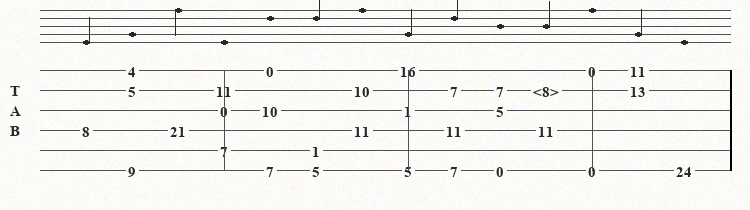0: (220, 103, 232, 117), (266, 63, 278, 77), (496, 163, 508, 177), (588, 63, 600, 77), (588, 163, 600, 177)
1: (312, 143, 324, 157), (404, 103, 416, 117)
10: (262, 103, 282, 117), (354, 83, 374, 97)
11: (216, 83, 236, 97), (354, 123, 374, 137), (446, 123, 466, 137), (538, 123, 558, 137), (630, 63, 650, 77)
13: (630, 83, 650, 97)
16: (400, 63, 420, 77)
21: (170, 123, 190, 137)
24: (676, 163, 696, 177)
4: (128, 63, 140, 77)
5: (128, 83, 140, 97), (312, 163, 324, 177), (404, 163, 416, 177), (496, 103, 508, 117)
7: (220, 143, 232, 157), (266, 163, 278, 177), (450, 83, 462, 97), (450, 163, 462, 177), (496, 83, 508, 97)
8: (82, 123, 94, 137)
9: (128, 163, 140, 177)
harmonic: (533, 83, 563, 97)
